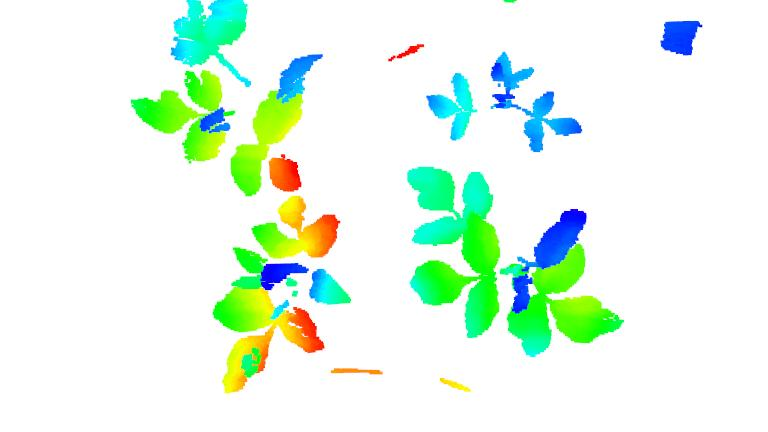mungbean: (405, 162, 626, 358), (128, 1, 327, 192), (216, 194, 348, 398), (424, 49, 587, 159)
